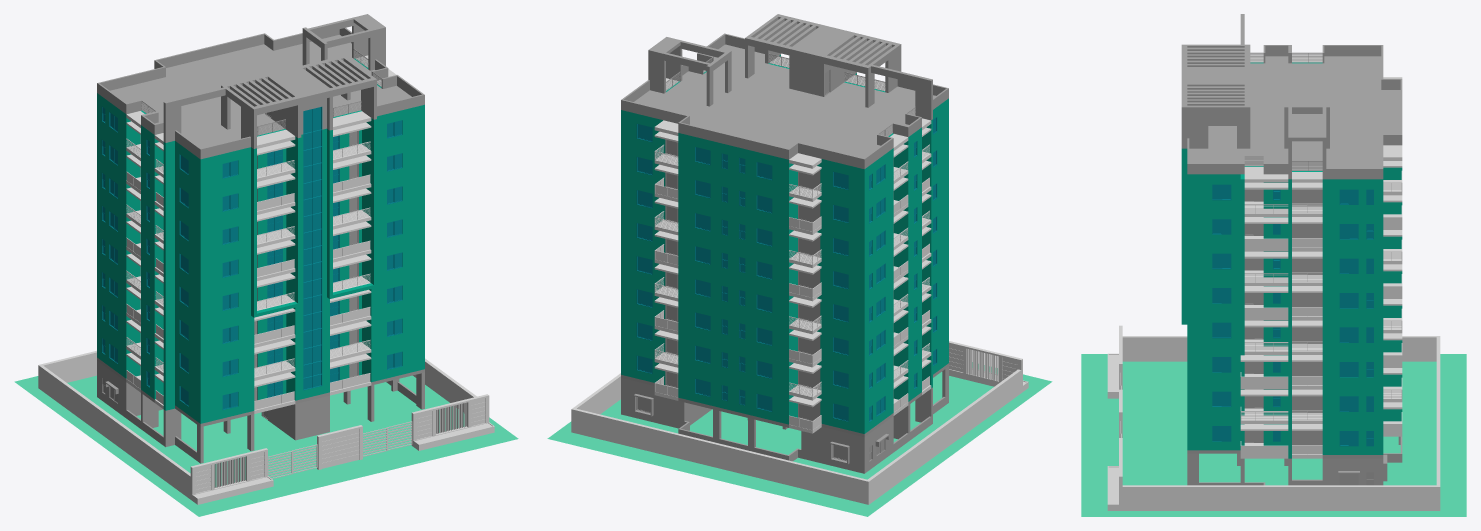
Rendered from apartment_green.fbx.
3 renders of one model, left to right at view 1: azimuth 30°, elevation 25°; view 2: azimuth 150°, elevation 25°; view 3: azimuth 270°, elevation 25°, orthographic. The views are drawn at different scales.
Parts seen in each view (by area): view 1: Apartment_Building_17_obj:AB17_OBJ_01, Apartment_Building_17_obj:AB17_OBJ_15, Apartment_Building_17_obj:AB17_OBJ_03, ten_ten7, Apartment_Building_17_obj:AB17_OBJ_09, Apartment_Building_17_obj:AB17_OBJ_19, Apartment_Building_17_obj:AB17_OBJ_07, Apartment_Building_17_obj:AB17_OBJ_06, Apartment_Building_17_obj:AB17_OBJ_12, Apartment_Building_17_obj:AB17_OBJ_11, Apartment_Building_17_obj:AB17_OBJ_10, Apartment_Building_17_obj:AB17_OBJ_14 (+1 smaller); view 2: Apartment_Building_17_obj:AB17_OBJ_04, Apartment_Building_17_obj:AB17_OBJ_15, Apartment_Building_17_obj:AB17_OBJ_03, Apartment_Building_17_obj:AB17_OBJ_11, Apartment_Building_17_obj:AB17_OBJ_09, Apartment_Building_17_obj:AB17_OBJ_12, ten_ten7, Apartment_Building_17_obj:AB17_OBJ_06, Apartment_Building_17_obj:AB17_OBJ_10, Apartment_Building_17_obj:AB17_OBJ_07, Apartment_Building_17_obj:AB17_OBJ_05, Apartment_Building_17_obj:AB17_OBJ_14 (+1 smaller); view 3: Apartment_Building_17_obj:AB17_OBJ_02, ten_ten7, Apartment_Building_17_obj:AB17_OBJ_15, Apartment_Building_17_obj:AB17_OBJ_11, Apartment_Building_17_obj:AB17_OBJ_12, Apartment_Building_17_obj:AB17_OBJ_09, Apartment_Building_17_obj:AB17_OBJ_10, Apartment_Building_17_obj:AB17_OBJ_06, Apartment_Building_17_obj:AB17_OBJ_04, Apartment_Building_17_obj:AB17_OBJ_01, Apartment_Building_17_obj:AB17_OBJ_07, Apartment_Building_17_obj:AB17_OBJ_14 (+1 smaller).
Boxes of the visible parts, <box> form: Apartment_Building_17_obj:AB17_OBJ_01: <box>199,104,424,423</box>; Apartment_Building_17_obj:AB17_OBJ_15: <box>97,14,424,159</box>; Apartment_Building_17_obj:AB17_OBJ_03: <box>98,94,199,422</box>; ten_ten7: <box>14,375,518,516</box>; Apartment_Building_17_obj:AB17_OBJ_09: <box>101,106,402,409</box>; Apartment_Building_17_obj:AB17_OBJ_19: <box>254,111,371,413</box>; Apartment_Building_17_obj:AB17_OBJ_07: <box>190,394,494,504</box>; Apartment_Building_17_obj:AB17_OBJ_06: <box>97,361,424,463</box>; Apartment_Building_17_obj:AB17_OBJ_12: <box>38,350,476,499</box>; Apartment_Building_17_obj:AB17_OBJ_11: <box>126,55,396,408</box>; Apartment_Building_17_obj:AB17_OBJ_10: <box>140,131,358,400</box>; Apartment_Building_17_obj:AB17_OBJ_14: <box>142,49,381,135</box>; Apartment_Building_17_obj:AB17_OBJ_04: <box>621,110,865,433</box>; Apartment_Building_17_obj:AB17_OBJ_15: <box>621,14,948,169</box>; Apartment_Building_17_obj:AB17_OBJ_03: <box>865,99,948,433</box>; Apartment_Building_17_obj:AB17_OBJ_11: <box>654,70,931,433</box>; Apartment_Building_17_obj:AB17_OBJ_09: <box>636,117,937,422</box>; Apartment_Building_17_obj:AB17_OBJ_12: <box>571,369,1021,504</box>; ten_ten7: <box>547,362,1052,516</box>; Apartment_Building_17_obj:AB17_OBJ_06: <box>621,366,948,473</box>; Apartment_Building_17_obj:AB17_OBJ_10: <box>665,139,893,421</box>; Apartment_Building_17_obj:AB17_OBJ_07: <box>949,341,1028,392</box>; Apartment_Building_17_obj:AB17_OBJ_05: <box>621,363,948,437</box>; Apartment_Building_17_obj:AB17_OBJ_14: <box>666,53,915,136</box>; Apartment_Building_17_obj:AB17_OBJ_02: <box>1189,166,1381,458</box>; ten_ten7: <box>1081,354,1466,516</box>; Apartment_Building_17_obj:AB17_OBJ_15: <box>1181,14,1402,179</box>; Apartment_Building_17_obj:AB17_OBJ_11: <box>1240,55,1402,458</box>; Apartment_Building_17_obj:AB17_OBJ_12: <box>1122,336,1440,510</box>; Apartment_Building_17_obj:AB17_OBJ_09: <box>1212,184,1373,446</box>; Apartment_Building_17_obj:AB17_OBJ_10: <box>1244,189,1322,444</box>; Apartment_Building_17_obj:AB17_OBJ_06: <box>1187,436,1402,485</box>; Apartment_Building_17_obj:AB17_OBJ_04: <box>1381,167,1402,454</box>; Apartment_Building_17_obj:AB17_OBJ_01: <box>1181,148,1189,450</box>; Apartment_Building_17_obj:AB17_OBJ_07: <box>1107,325,1122,510</box>; Apartment_Building_17_obj:AB17_OBJ_14: <box>1244,52,1322,170</box>.
Bounding box in the file's own units: 10 × 10.37 × 10.
